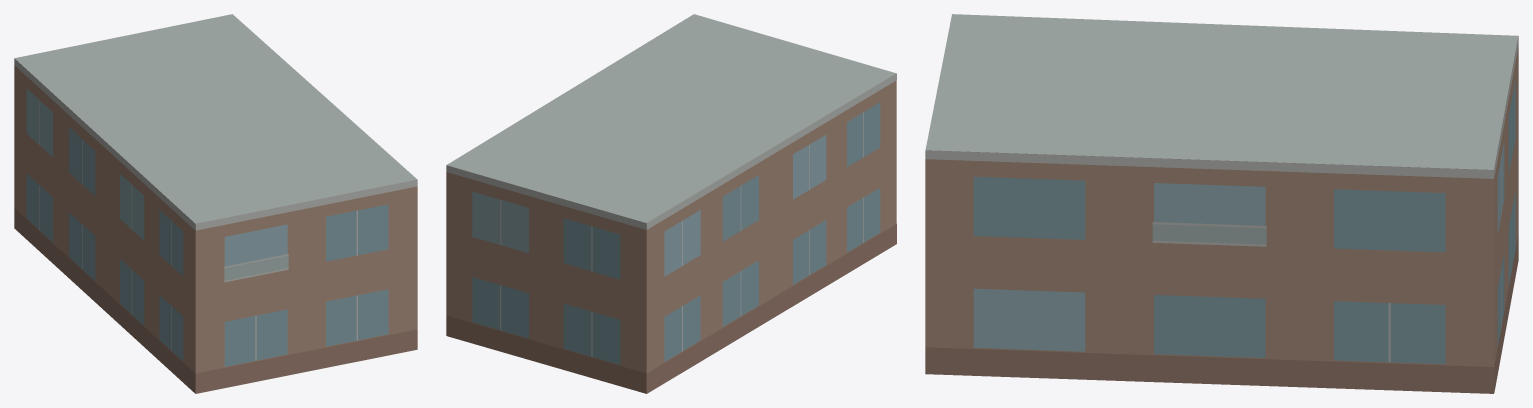
File: survey-upis-32978361.glb
3 views of the same model, side by side, from view 1: azimuth 30°, elevation 25°; view 2: azimuth 150°, elevation 25°; view 3: azimuth 270°, elevation 25° (orthographic). The views are drawn at different scales.
Parts seen in each view (by area): view 1: survey-upis-32978361.tmp; view 2: survey-upis-32978361.tmp; view 3: survey-upis-32978361.tmp.
Part boxes in pixels (left/top/right/bottom): survey-upis-32978361.tmp: left=14, top=14, right=417, bottom=393; survey-upis-32978361.tmp: left=446, top=14, right=896, bottom=393; survey-upis-32978361.tmp: left=925, top=14, right=1518, bottom=393.
Bounding box in the file's own units: 9.13 × 6.1 × 14.66.
